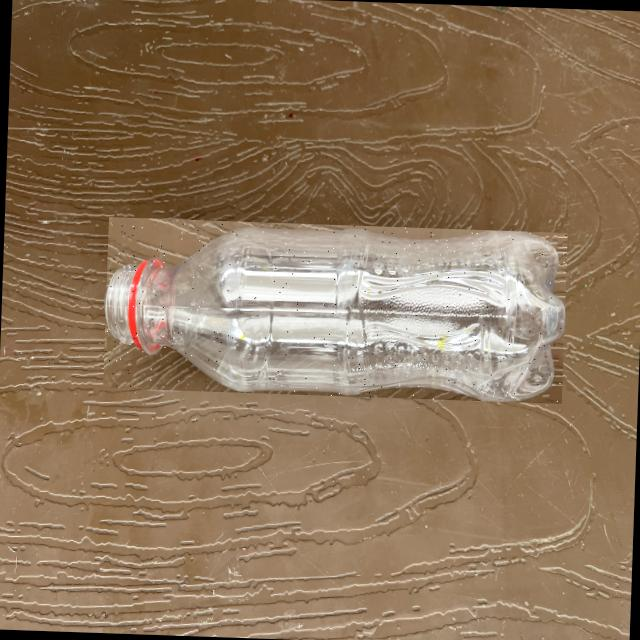PET_With_Cap: (104, 228, 563, 401)
